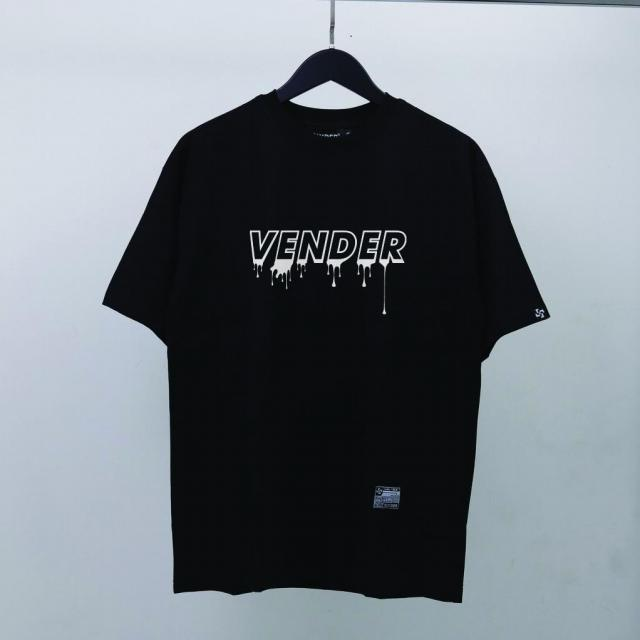Shirt: (101, 86, 552, 602)
